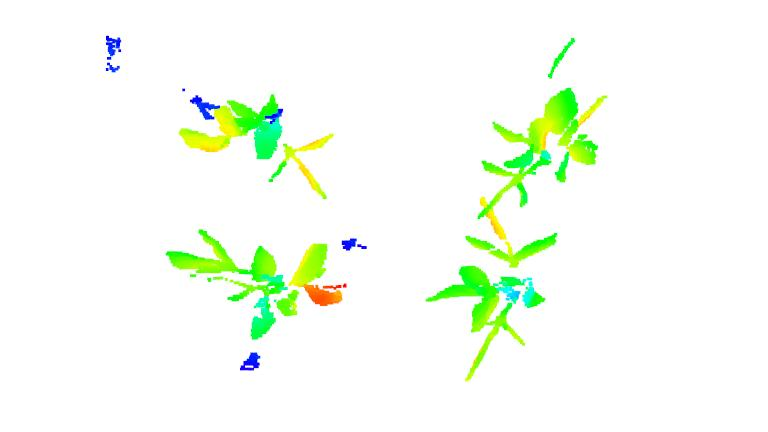mungbean: (433, 202, 558, 380), (167, 229, 347, 339), (476, 86, 613, 215), (177, 87, 326, 200)
